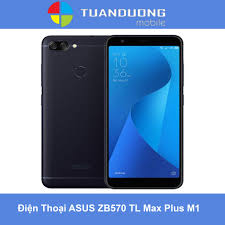asus: (103, 32, 187, 189), (38, 32, 107, 188)
